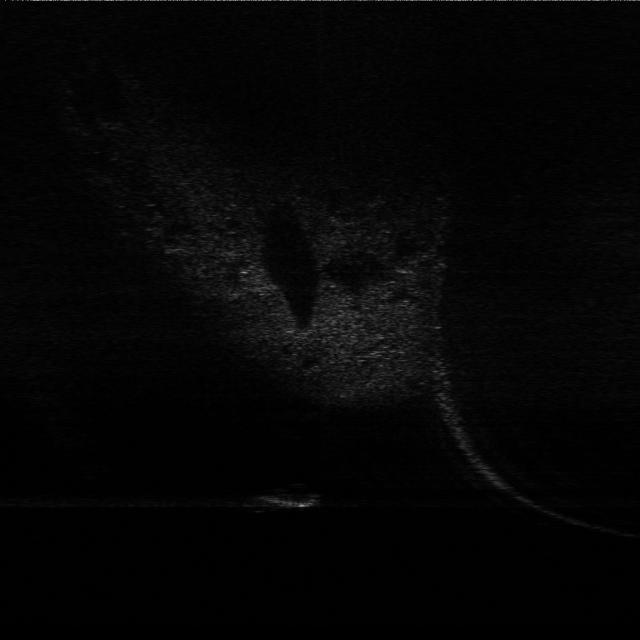square cage: (246, 482, 330, 518)
